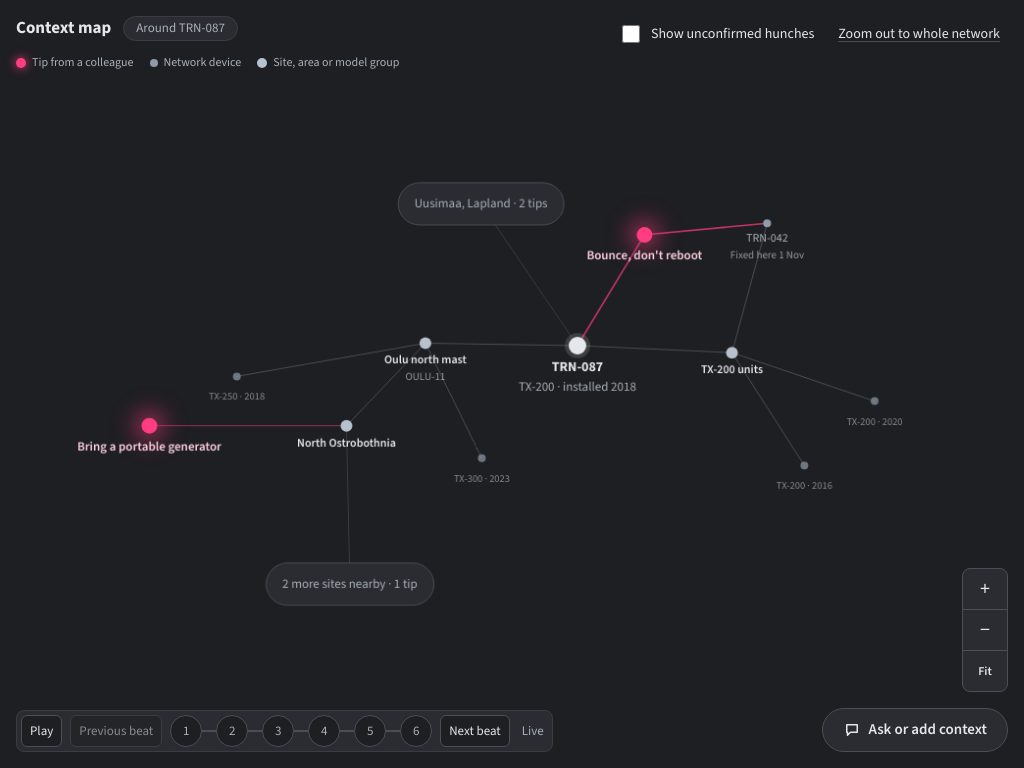
map page and chat › shows the fallback message when chat() is absent
Expected: the button "Bounce, don't reboot" is shown, [623,213,666,256]
Click the button "Ask or add context" at point(915, 730), box [822,708,1008,752]
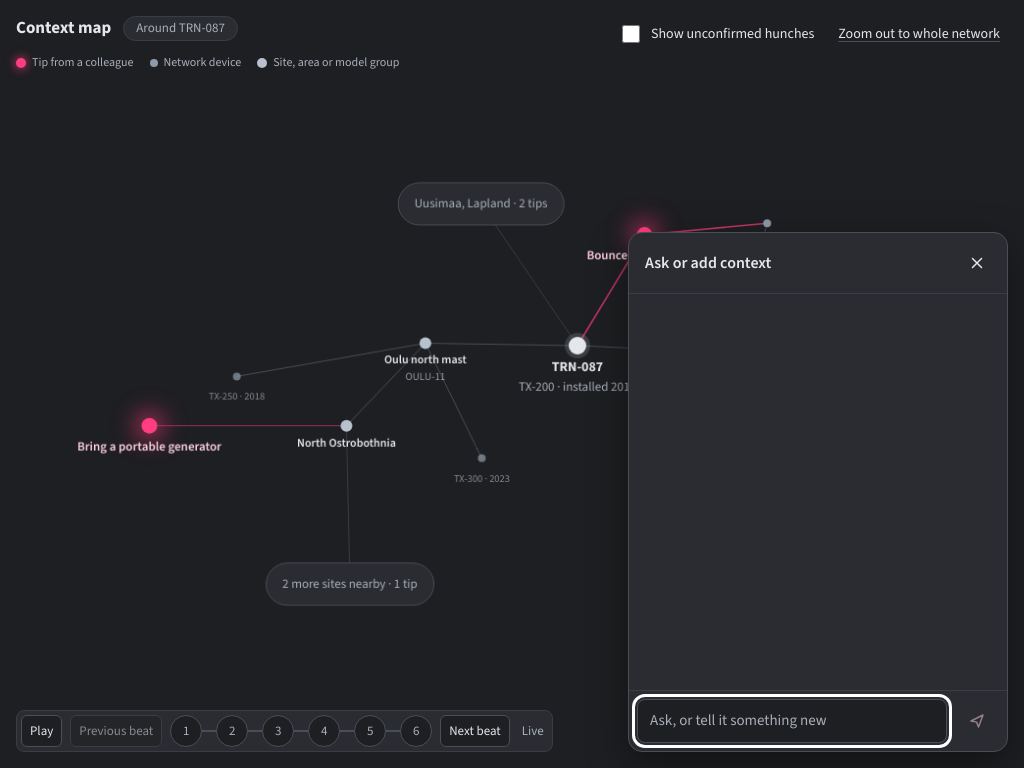
Type "The key moved" into the field named "Message" at point(792, 721), box [637,699,947,743]
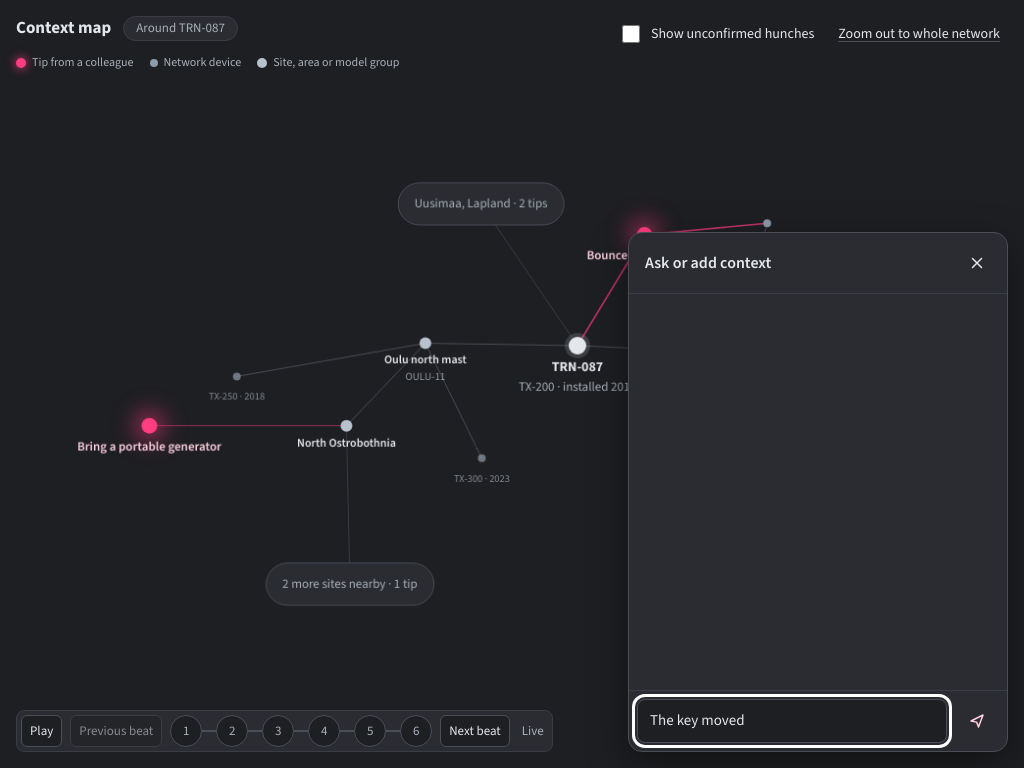
Click the button named "Send" at point(977, 721), box [955,699,999,743]
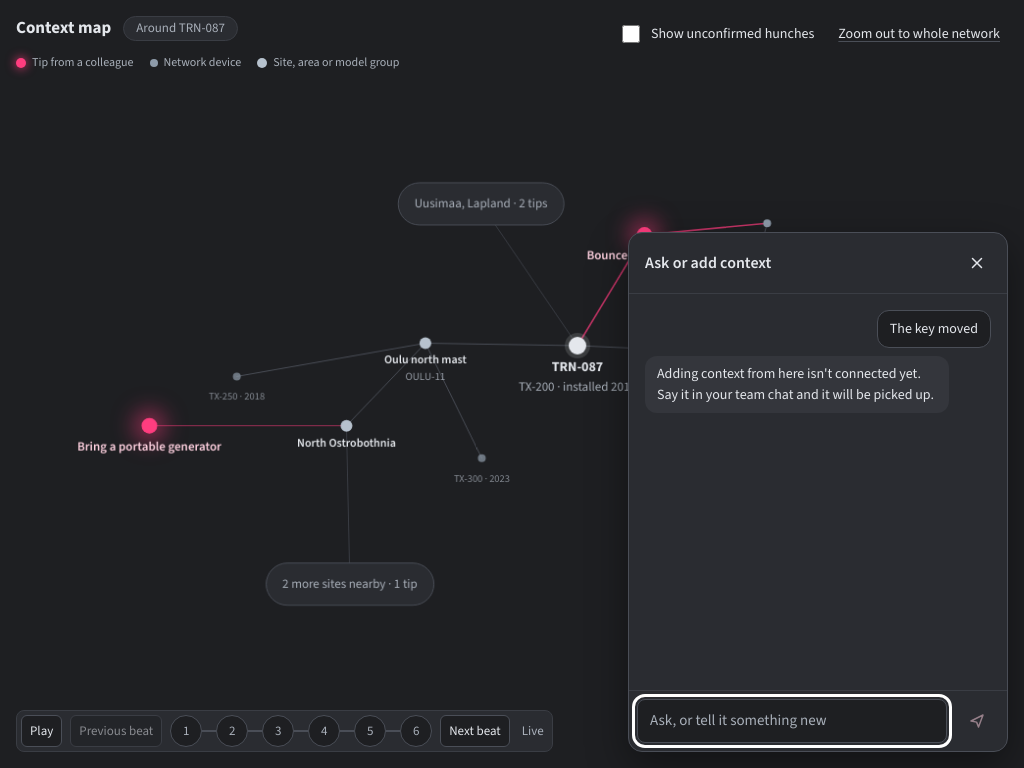
Now the list item "isn't connected yet" is shown, box [657,364,934,404]
